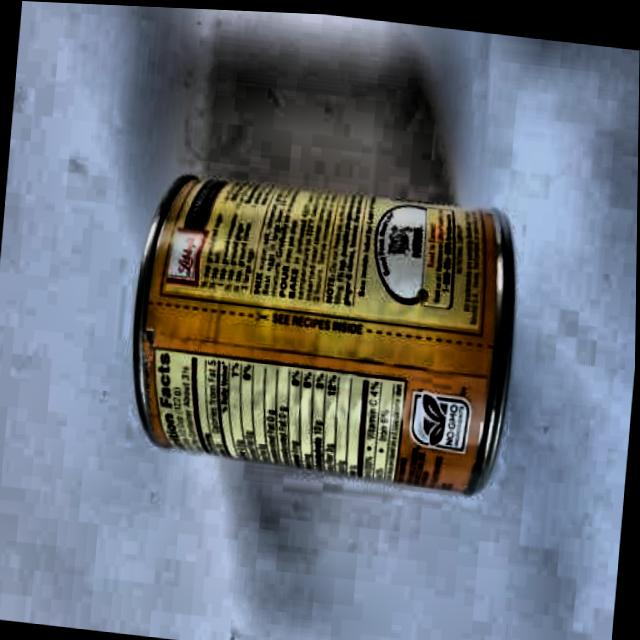Cans: (113, 147, 530, 525)
